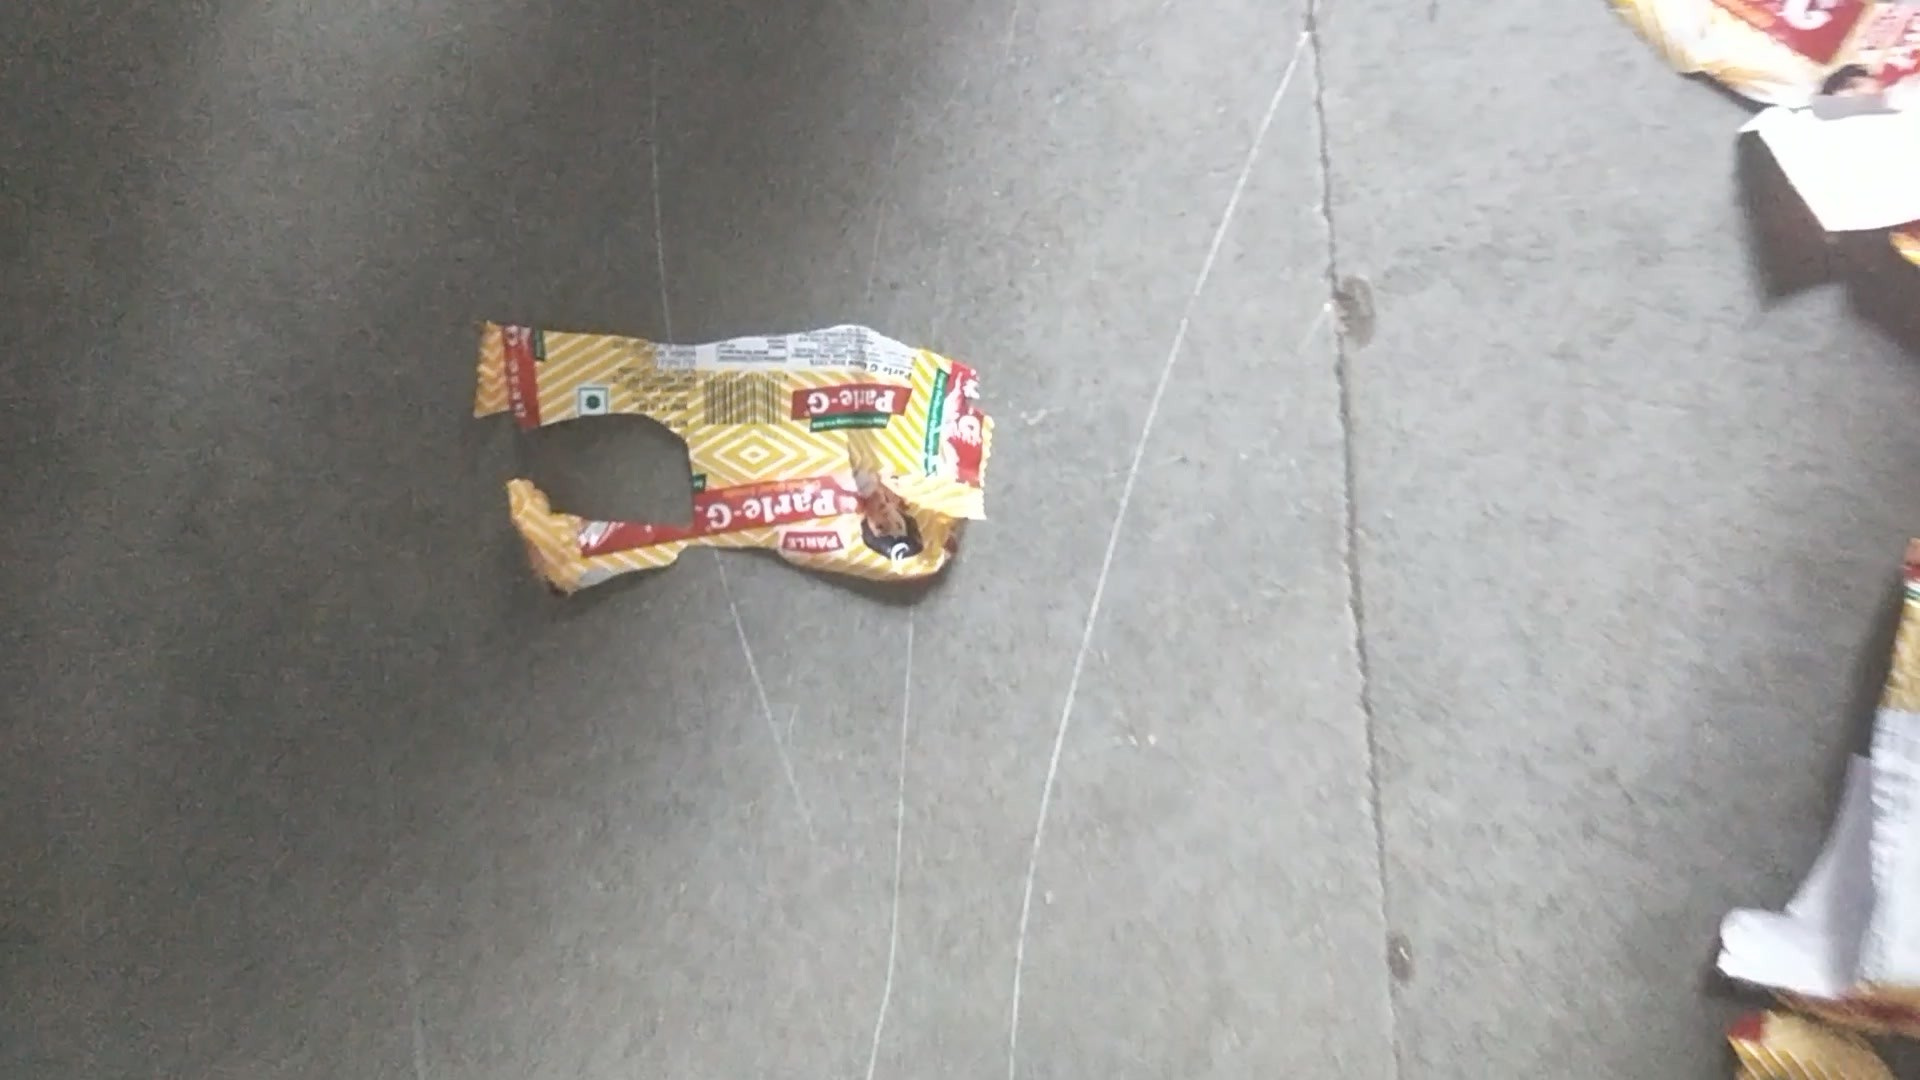parle-g-b: (497, 336, 944, 563)
